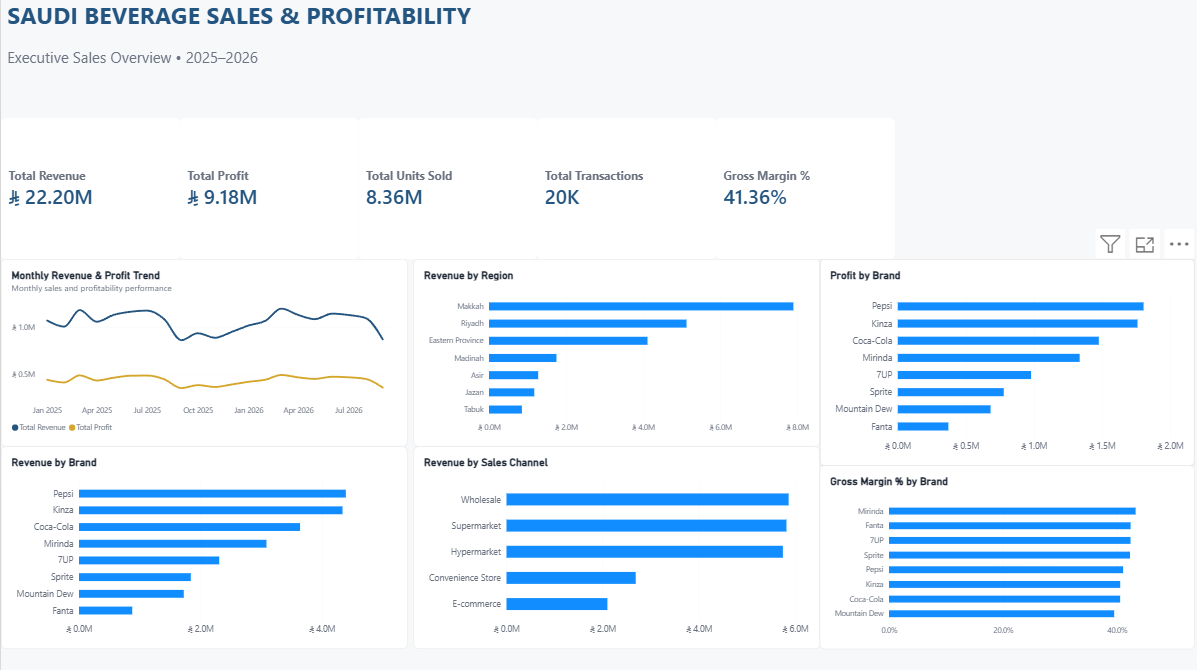

Layout of this report page (visuals, bound fields, positions):
{"tool":"powerbi","page":{"name":"Page 1","canvas":[1920,1080],"ordinal":0},"visuals":[{"type":"textbox","box":[10.3,0,815.1,279.9],"z":0},{"type":"textbox","box":[10.3,76.2,815,280],"z":1000},{"type":"cardVisual","fields":{"Data":["Saudi_Beverage_Sales_Cleaned.Total Revenue"]},"box":[0,189.4,286.1,226.4],"z":2000},{"type":"cardVisual","fields":{"Data":["Saudi_Beverage_Sales_Cleaned.Total Profit"]},"box":[286.1,189.4,286,226],"z":3000},{"type":"cardVisual","fields":{"Data":["Saudi_Beverage_Sales_Cleaned.Total Units Sold"]},"box":[572.2,189.4,286,226],"z":4000},{"type":"cardVisual","fields":{"Data":["Saudi_Beverage_Sales_Cleaned.Gross Margin %"]},"box":[1144.4,189.4,286.1,226.4],"z":5000},{"type":"cardVisual","fields":{"Data":["Saudi_Beverage_Sales_Cleaned.Total Transactions"]},"box":[858.3,189.4,286.1,226.4],"z":6000},{"type":"lineChart","title":"Monthly Revenue & Profit Trend","fields":{"Category":["Saudi_Beverage_Sales_Cleaned.Date.Variation.Date Hierarchy.Year","Saudi_Beverage_Sales_Cleaned.Date.Variation.Date Hierarchy.Month"],"Y":["Saudi_Beverage_Sales_Cleaned.Total Revenue","Saudi_Beverage_Sales_Cleaned.Total Profit"]},"box":[0,415.8,650,300],"z":7000},{"type":"clusteredBarChart","title":"Revenue by Region","fields":{"Category":["Saudi_Beverage_Sales_Cleaned.Region"],"Y":["Saudi_Beverage_Sales_Cleaned.Total Revenue"]},"box":[660,416,650,300],"z":8000},{"type":"clusteredBarChart","title":"Revenue by Brand","fields":{"Category":["Saudi_Beverage_Sales_Cleaned.Brand"],"Y":["Saudi_Beverage_Sales_Cleaned.Total Revenue"]},"box":[0,716,650,324],"z":9000},{"type":"clusteredBarChart","title":"Revenue by Sales Channel","fields":{"Category":["Saudi_Beverage_Sales_Cleaned.Sales_Channel"],"Y":["Saudi_Beverage_Sales_Cleaned.Total Revenue"]},"box":[660,716,650,324],"z":10000},{"type":"clusteredBarChart","title":" Profit by Brand","fields":{"Category":["Saudi_Beverage_Sales_Cleaned.Brand"],"Y":["Saudi_Beverage_Sales_Cleaned.Total Profit"]},"box":[1310,416,600,330],"z":11000},{"type":"clusteredBarChart","fields":{"Category":["Saudi_Beverage_Sales_Cleaned.Brand"],"Y":["Saudi_Beverage_Sales_Cleaned.Gross Margin %"]},"box":[1310,746,600,294],"z":12000}]}

Visuals, with their boxes in screenshot pixels (x1, y1, x2, y2), scaled from the page's 1920x1080 canvas onto the 1197x670 screenshot:
textbox: detection(6, 0, 515, 174)
textbox: detection(6, 47, 515, 221)
cardVisual - Saudi_Beverage_Sales_Cleaned.Total Revenue: detection(0, 117, 178, 258)
cardVisual - Saudi_Beverage_Sales_Cleaned.Total Profit: detection(178, 117, 357, 258)
cardVisual - Saudi_Beverage_Sales_Cleaned.Total Units Sold: detection(357, 117, 535, 258)
cardVisual - Saudi_Beverage_Sales_Cleaned.Gross Margin %: detection(713, 117, 892, 258)
cardVisual - Saudi_Beverage_Sales_Cleaned.Total Transactions: detection(535, 117, 713, 258)
"Monthly Revenue & Profit Trend" lineChart: detection(0, 258, 405, 444)
"Revenue by Region" clusteredBarChart: detection(411, 258, 817, 444)
"Revenue by Brand" clusteredBarChart: detection(0, 444, 405, 645)
"Revenue by Sales Channel" clusteredBarChart: detection(411, 444, 817, 645)
" Profit by Brand" clusteredBarChart: detection(817, 258, 1191, 463)
clusteredBarChart - Saudi_Beverage_Sales_Cleaned.Brand x Saudi_Beverage_Sales_Cleaned.Gross Margin %: detection(817, 463, 1191, 645)
